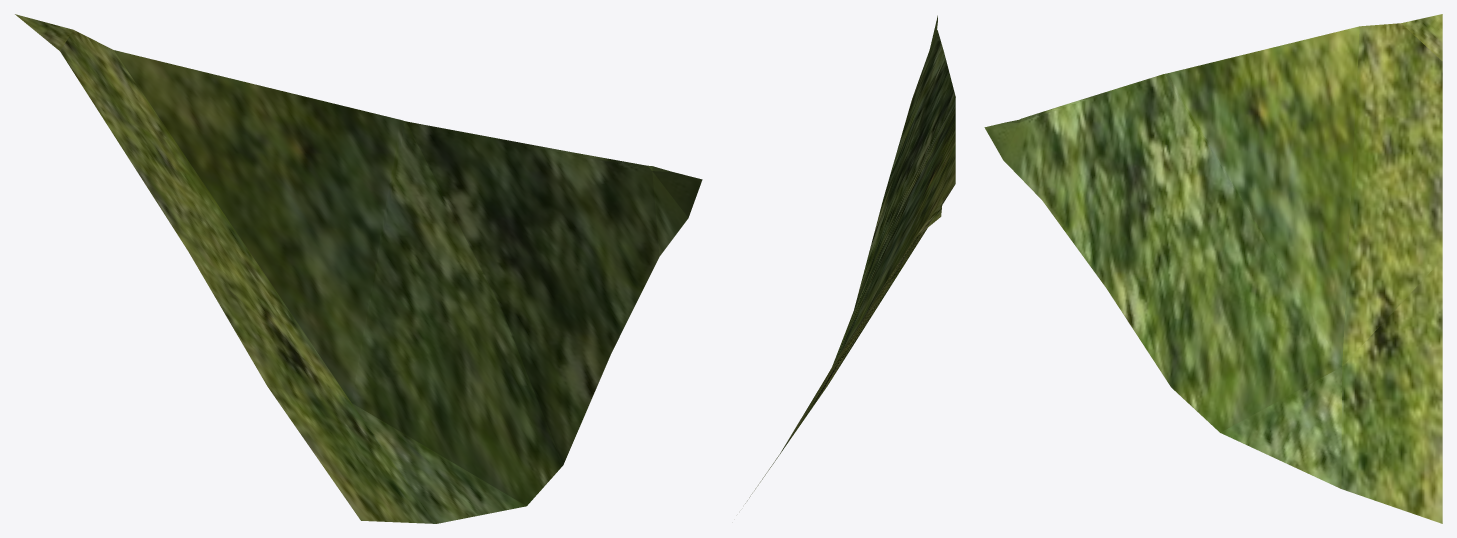
3 renders of one model, left to right at view 1: azimuth 30°, elevation 25°; view 2: azimuth 150°, elevation 25°; view 3: azimuth 270°, elevation 25°, orthographic. The views are drawn at different scales.
Bounding box in the file's own units: 2.7 × 4.41 × 4.62.
Materials: 1 (1 with a texture image).
